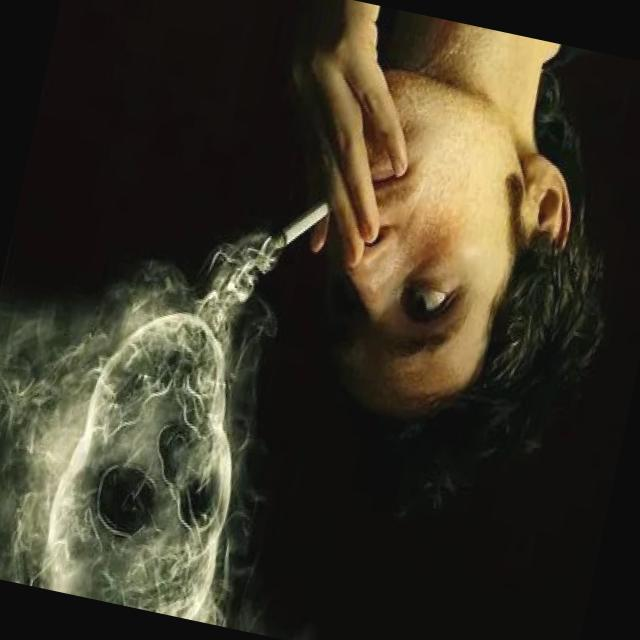smoke: (262, 178, 340, 270)
